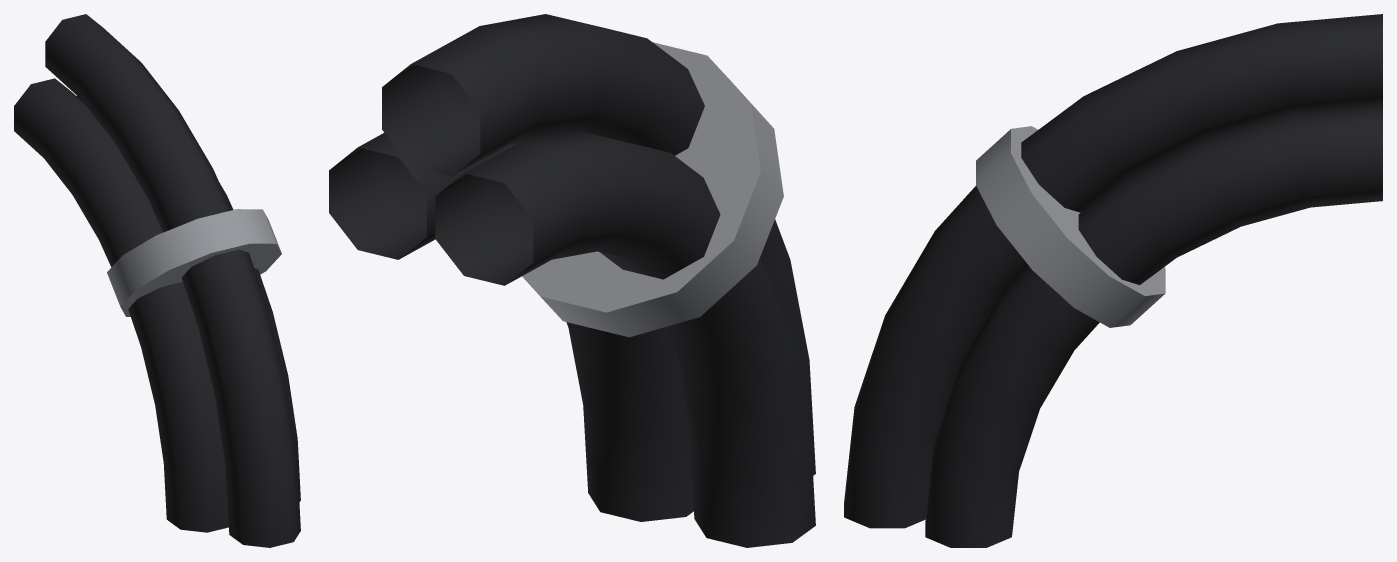
File: bend_down_north.obj
The picture shows the model from 3 angles, left to right: view 1: azimuth 30°, elevation 25°; view 2: azimuth 150°, elevation 25°; view 3: azimuth 270°, elevation 25°; orthographic projection. The views are drawn at different scales.
Visible parts, largest first — view 1: bend_down_north; view 2: bend_down_north; view 3: bend_down_north.
Part boxes in pixels (<box>): bend_down_north: <box>14,14,300,547</box>; bend_down_north: <box>329,14,815,547</box>; bend_down_north: <box>844,14,1382,547</box>.
Size of the model in its own units: 0.2475 by 0.6104 by 0.6104.
